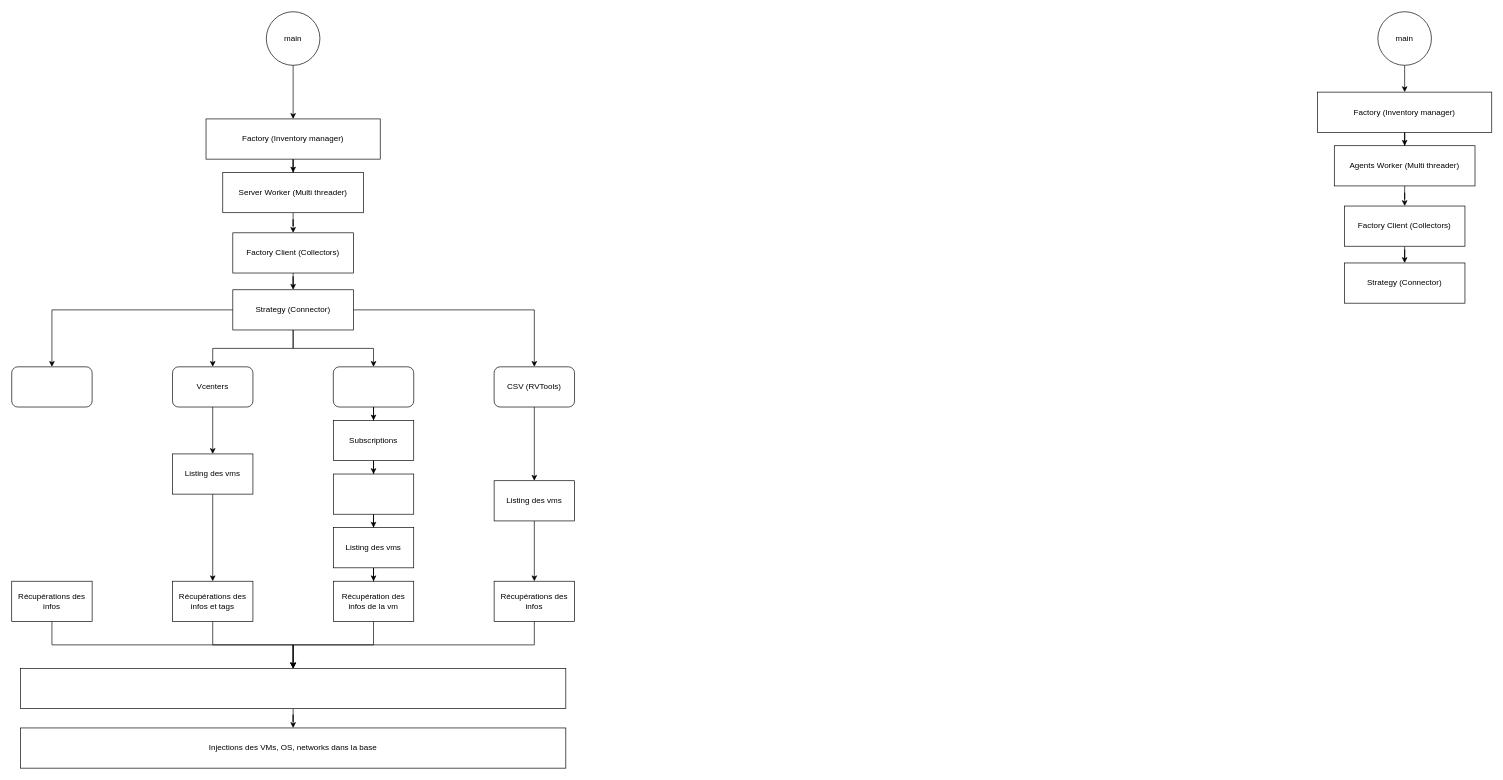
Image size: 1503x780. Some labels were removed from this diagram. Here are the shapes that lost their labels. From the top down, the centre of each, then its label:
the point at 51,386: AWS
the point at 373,386: Azure
the point at 373,493: Subnets
the point at 293,688: Normalisation des données
